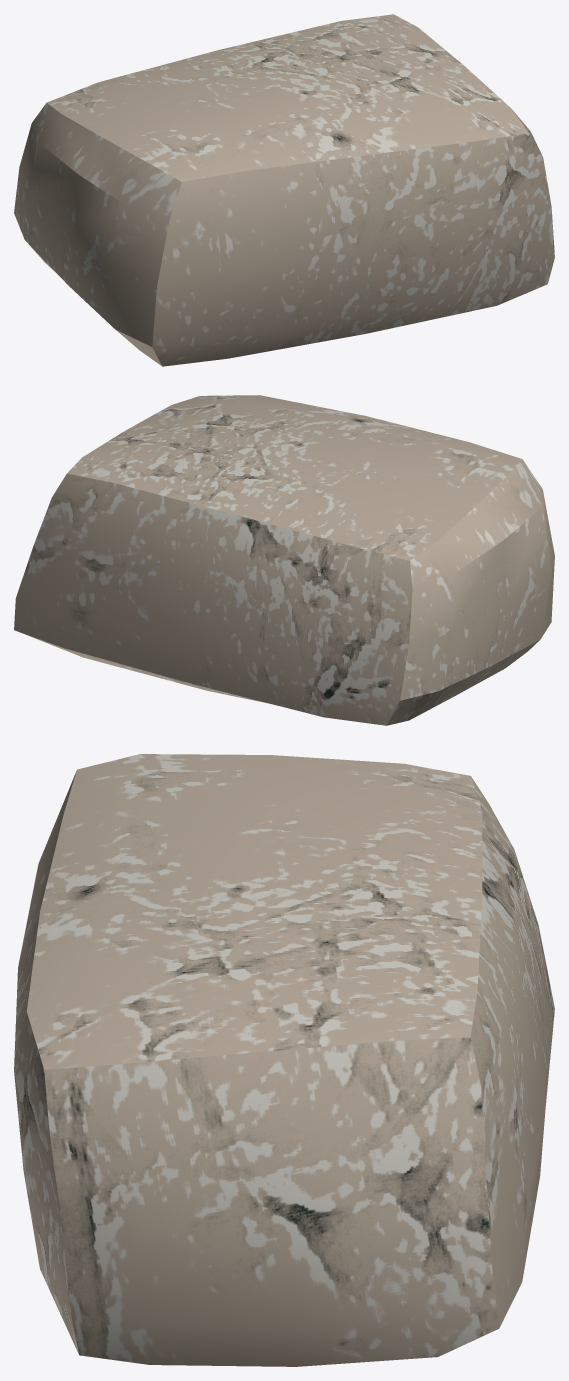
Rendered from Pedra_media.fbx.
3 views of the same model, one above another, from view 1: azimuth 30°, elevation 25°; view 2: azimuth 150°, elevation 25°; view 3: azimuth 270°, elevation 25° (orthographic). The views are drawn at different scales.
Visible parts, largest first — view 1: Pedra_media; view 2: Pedra_media; view 3: Pedra_media.
Boxes of the visible parts, x1,y1,x2,y2 form: Pedra_media: [14, 14, 554, 366]; Pedra_media: [14, 395, 554, 725]; Pedra_media: [14, 754, 554, 1366].
Bounding box in the file's own units: 178 × 83.41 × 119.
